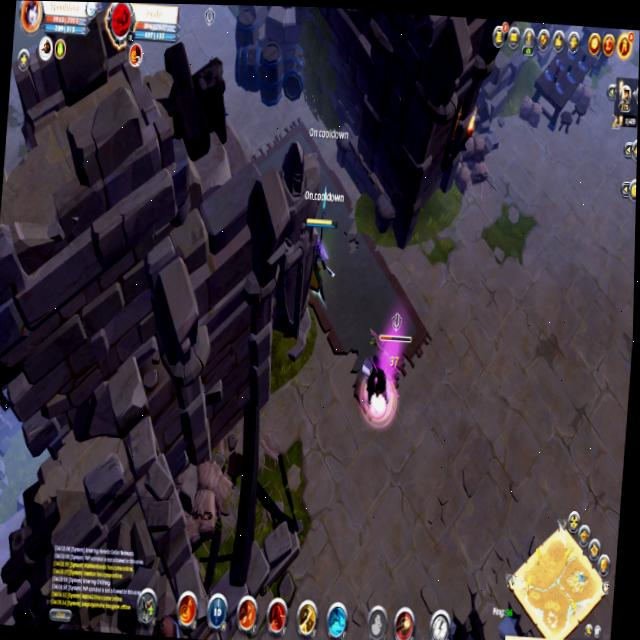ore: (360, 305, 417, 425)
red: (297, 211, 342, 299)
